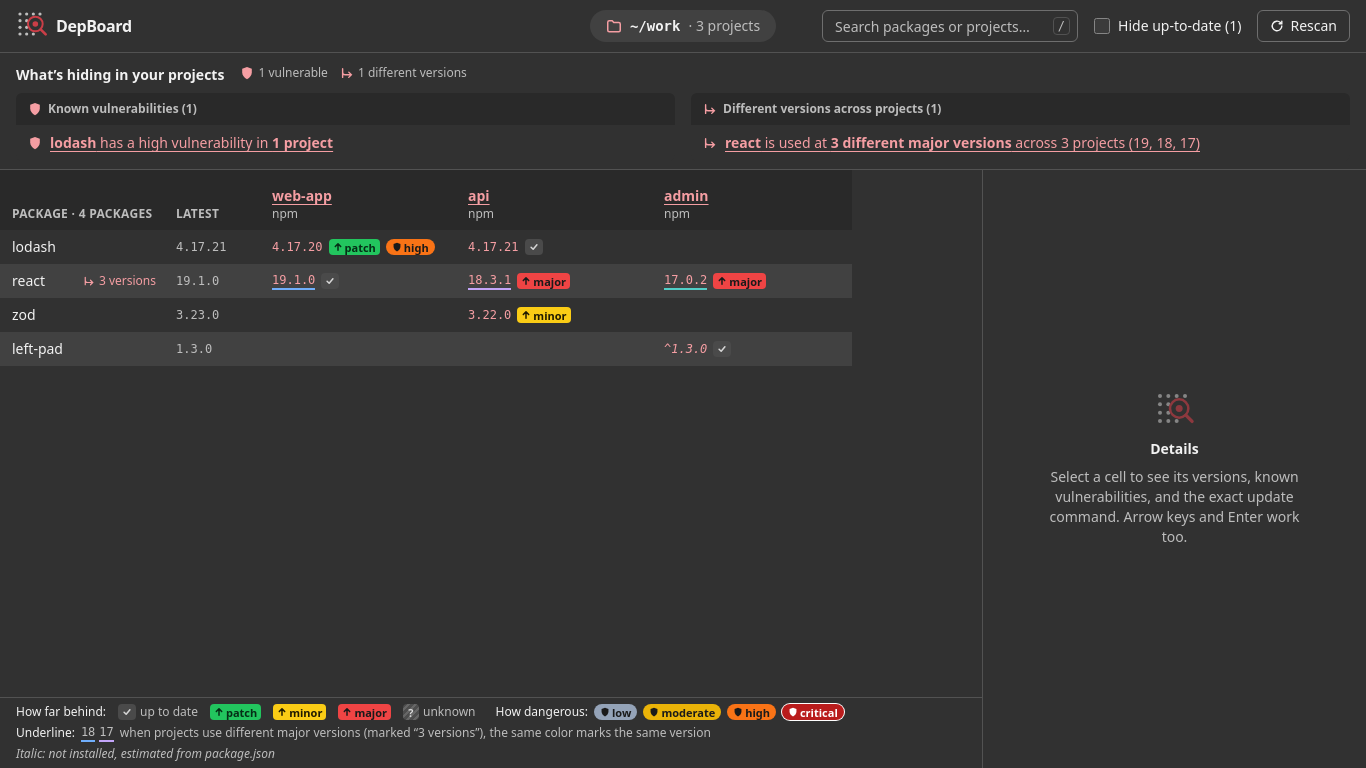
Test: the project screen › opens from a column header, lists its packages, and goes back to the matrix
The width and height of the screenshot is (1366, 768).
Click the link with aria-label "Open api" at point(479, 196), box [468,186,490,205]
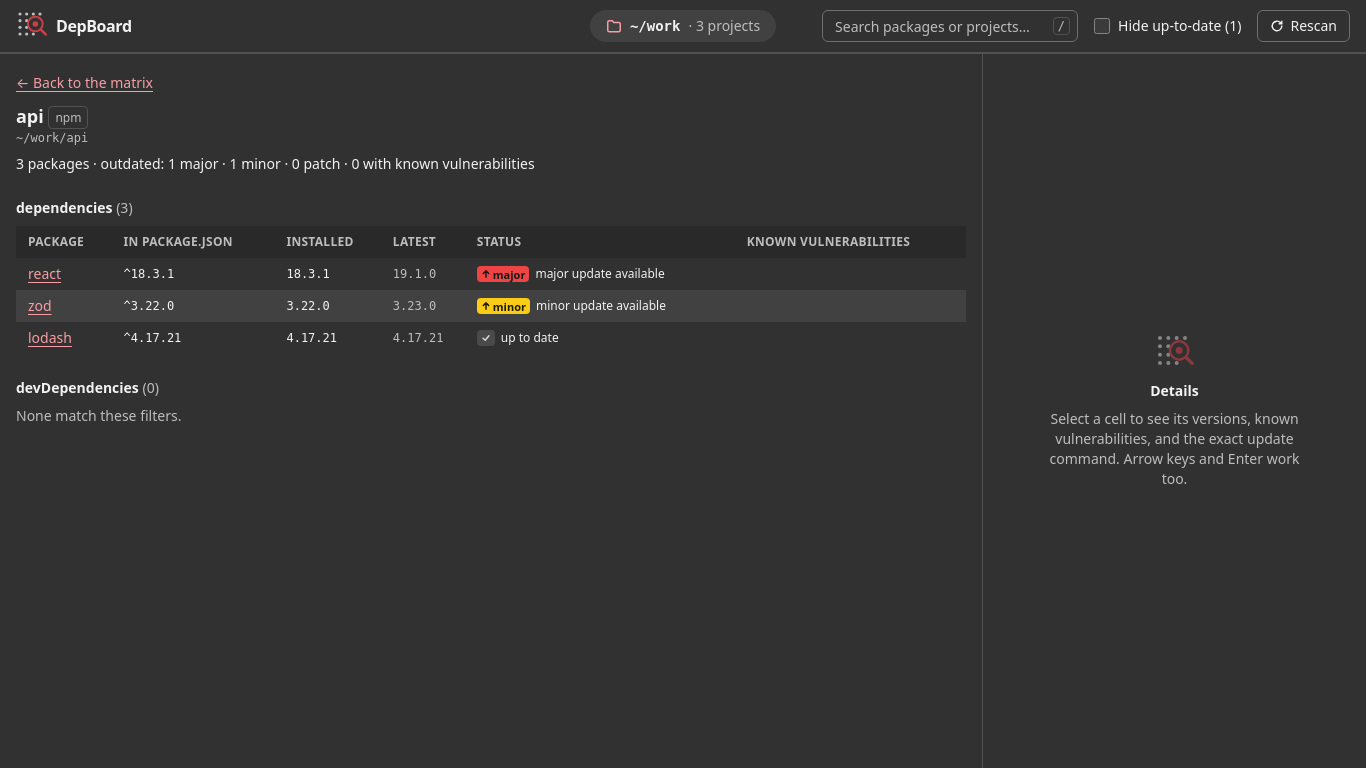
Expected: the heading "api npm" is shown, [16,104,88,129]
Expected: the text "3 packages · outdated: 1 major · 1 minor · 0 patch" is shown, [16,154,535,173]
Click the link "← Back to the matrix" at point(24, 82), box [16,73,153,92]
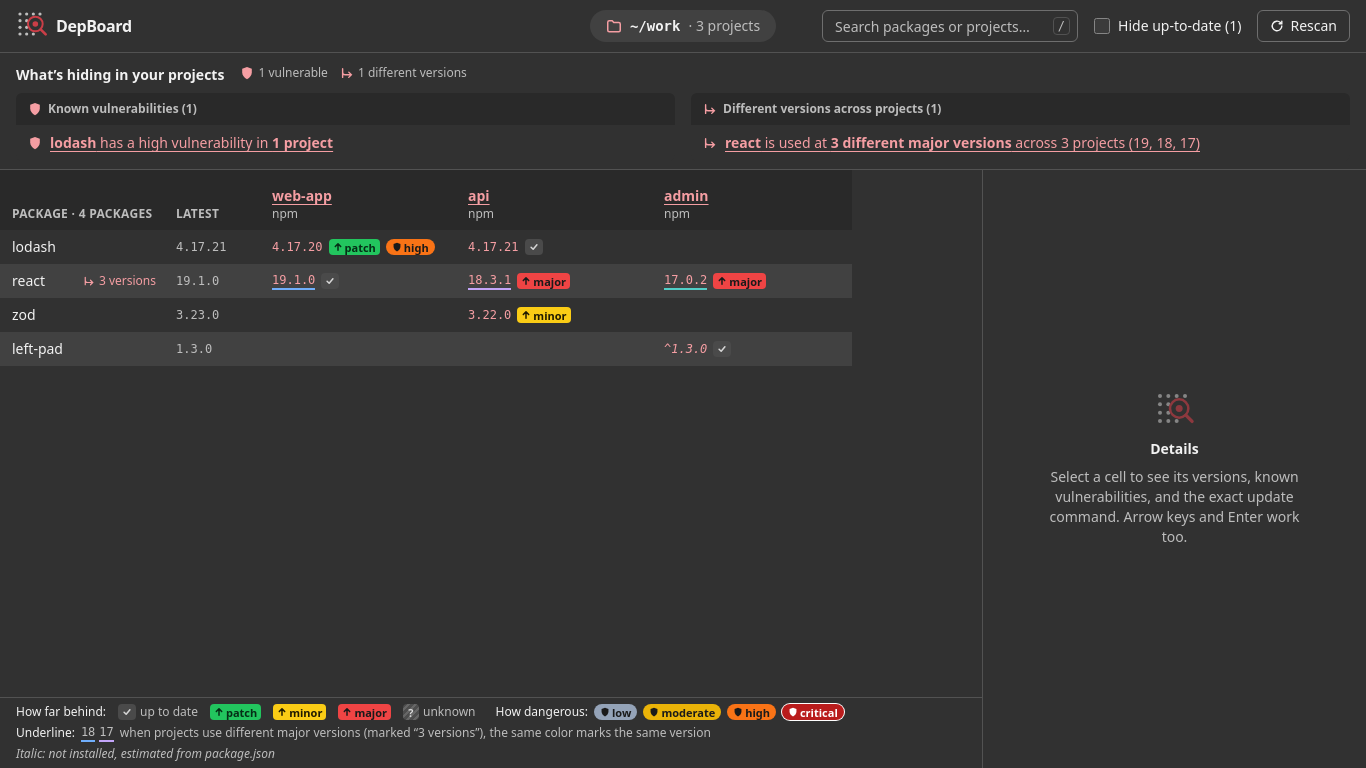
Expected: the table is shown, [0,170,852,366]
